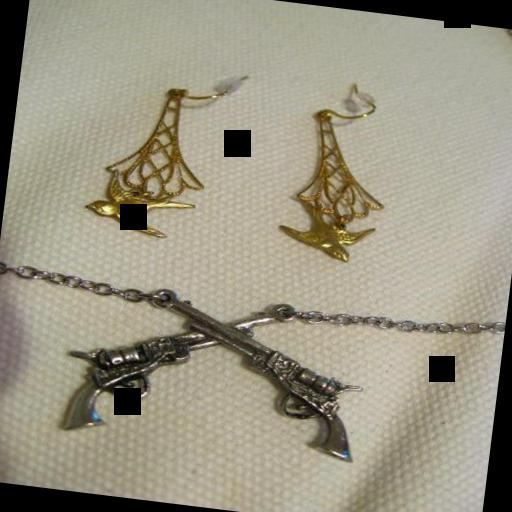Handgun: (50, 267, 281, 459), (134, 280, 373, 464)
